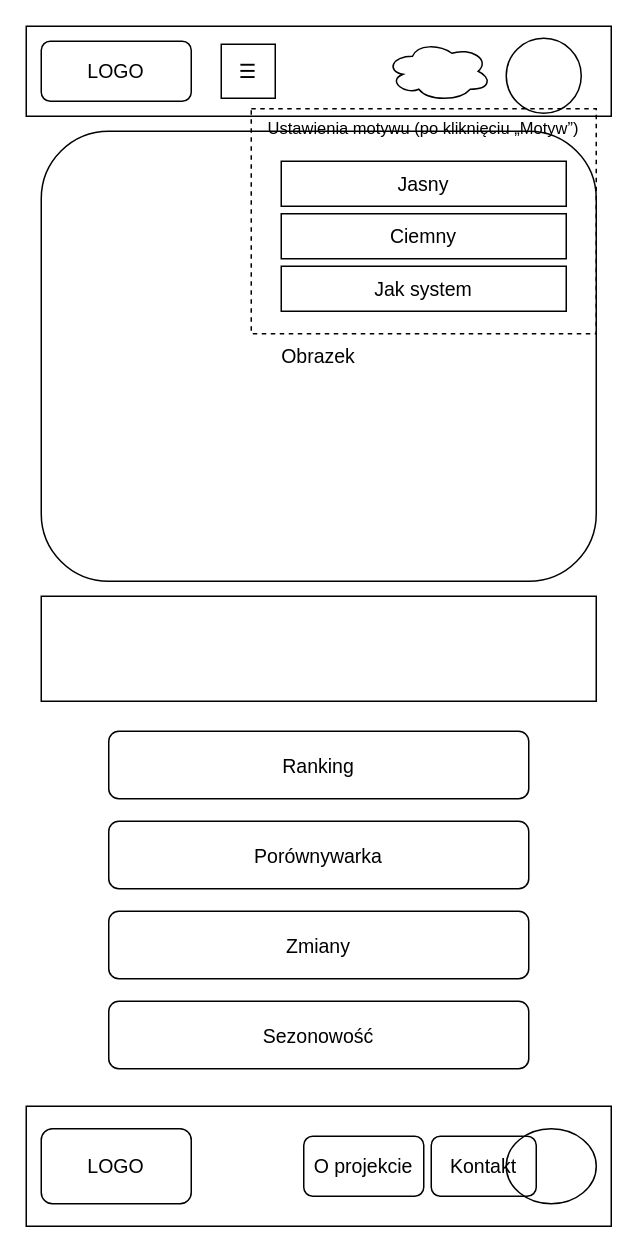
Some shapes in this 638 by 1253 pixel diagram are drawn without their labels. Each missing label, with the centre of its shape:
"Konto" goes at point (543, 75).
"Media" goes at point (550, 1165).
"Motyw" goes at point (438, 70).
"Tekst i odnośnik → Ranking" goes at point (318, 648).
